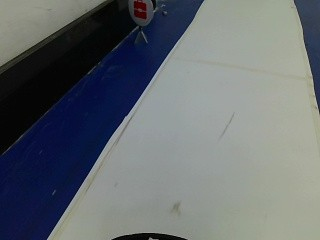company: (120, 0, 159, 24)
